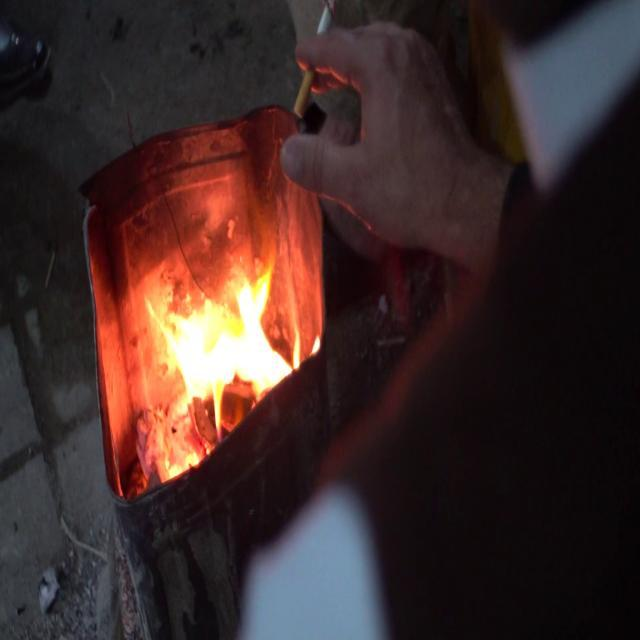Fire: (137, 268, 300, 414)
